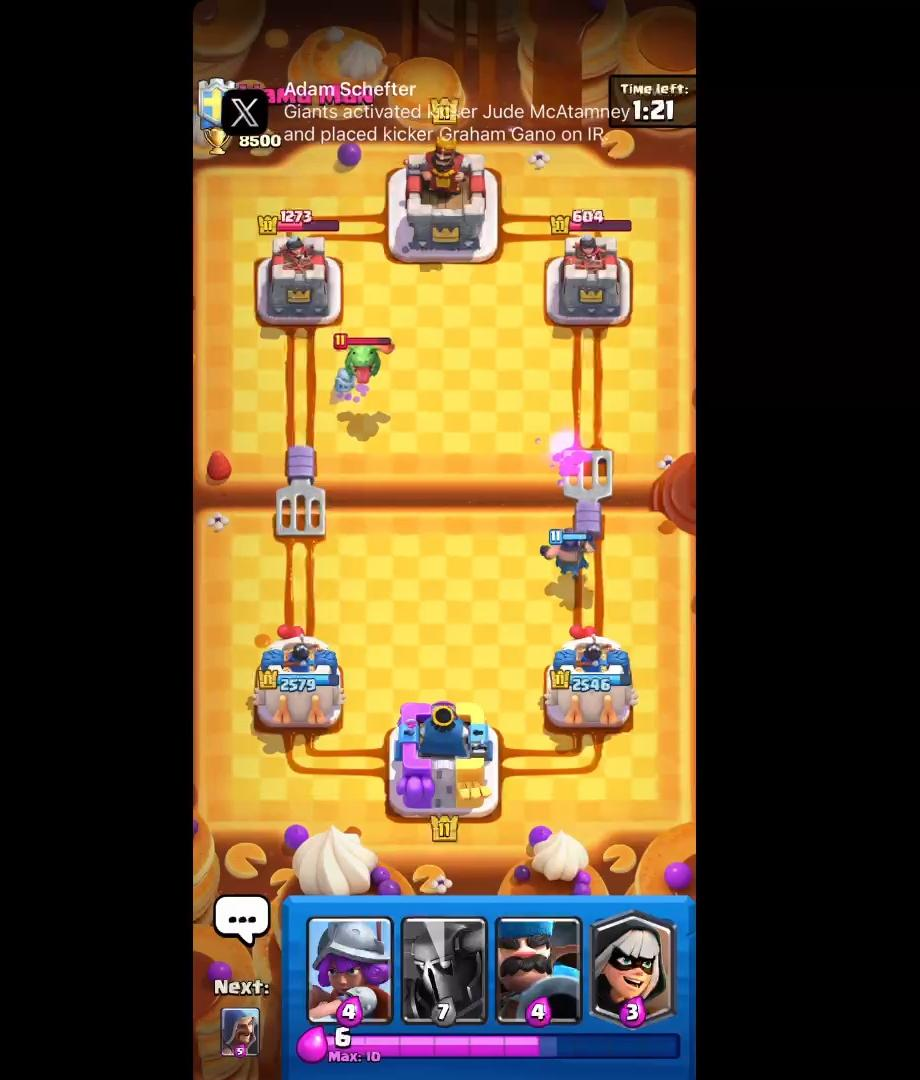Baby Dragon: (333, 328, 399, 397)
